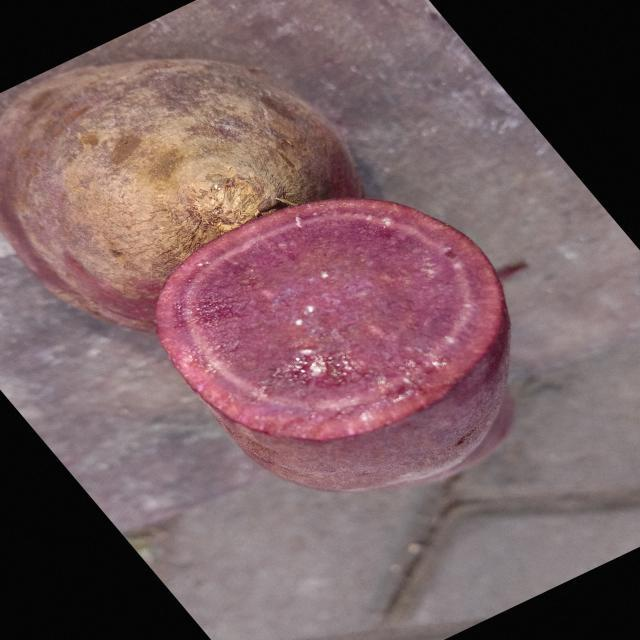Healthy Sweet Potato: (157, 199, 505, 441)
